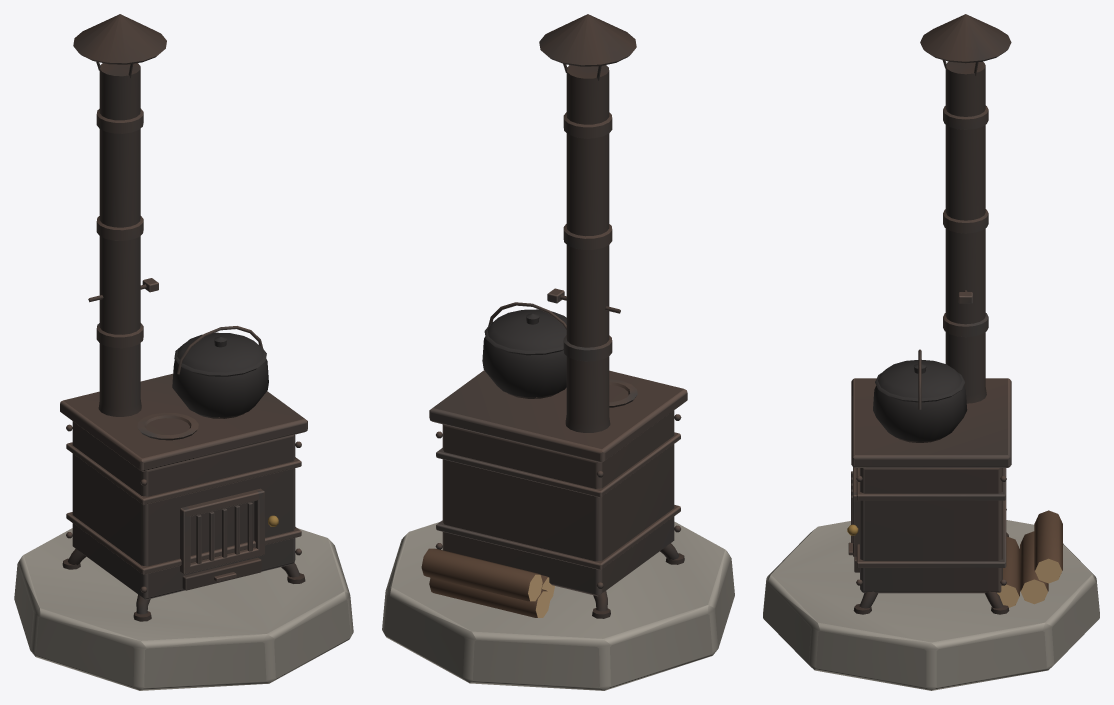
File: stove_iron.glb
3 renders of one model, left to right at view 1: azimuth 30°, elevation 25°; view 2: azimuth 150°, elevation 25°; view 3: azimuth 270°, elevation 25°, orthographic. The views are drawn at different scales.
Parts seen in each view (by area): view 1: stove_iron_LOD0; view 2: stove_iron_LOD0; view 3: stove_iron_LOD0.
Part boxes in pixels (<box>): stove_iron_LOD0: <box>14,14,353,690</box>; stove_iron_LOD0: <box>382,14,734,690</box>; stove_iron_LOD0: <box>763,14,1099,690</box>.
Size of what is drawn, in the model's own units: 1.18 by 2.26 by 1.18.
